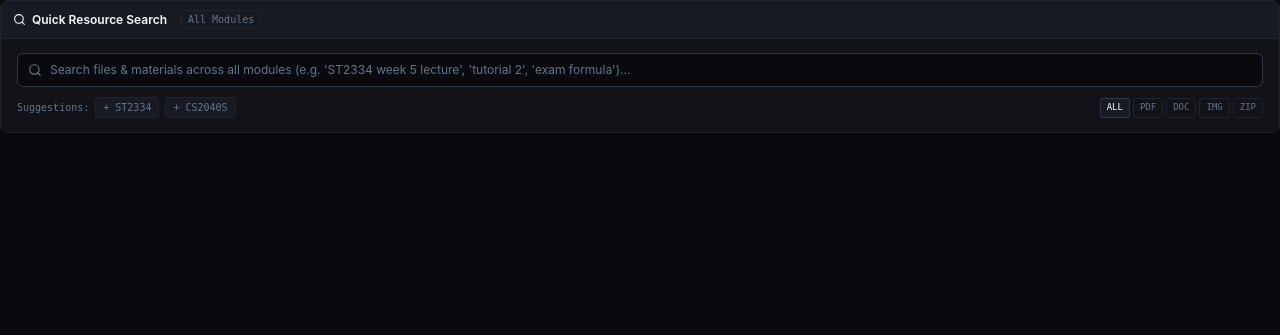
Test: CanvasSearchSection › filters by file type pills
Replace the text in the field with placeholder "Search files & materials across all modules" with "ST2334". click: {"x": 651, "y": 70}
box: [50,61,1252,79]
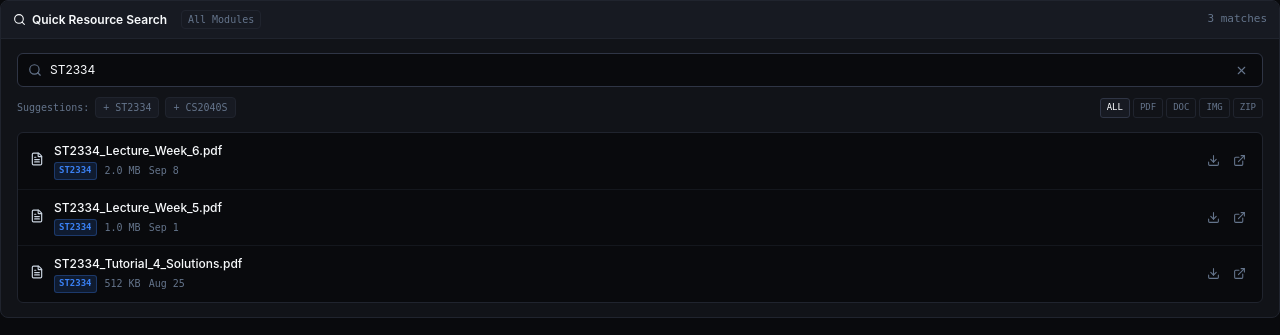
Now the text "ST2334_Lecture_Week_5.pdf" is shown, box [54,200,222,214]
Click the button "IMG". click: {"x": 1215, "y": 108}
box: [1200,98,1230,118]
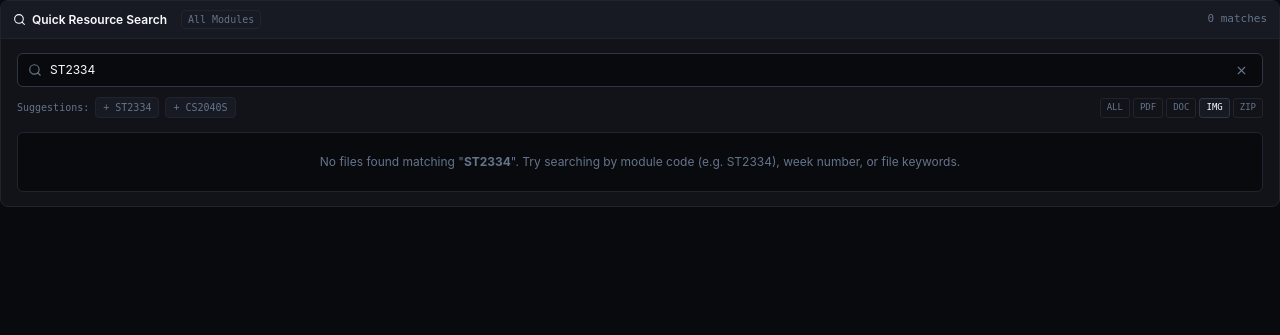
Now the text "No files found matching" is shown, box [320,154,464,169]
